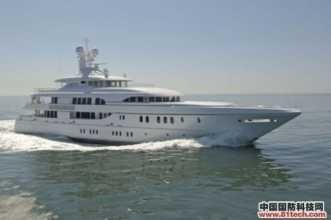yacht: (9, 51, 303, 144)
